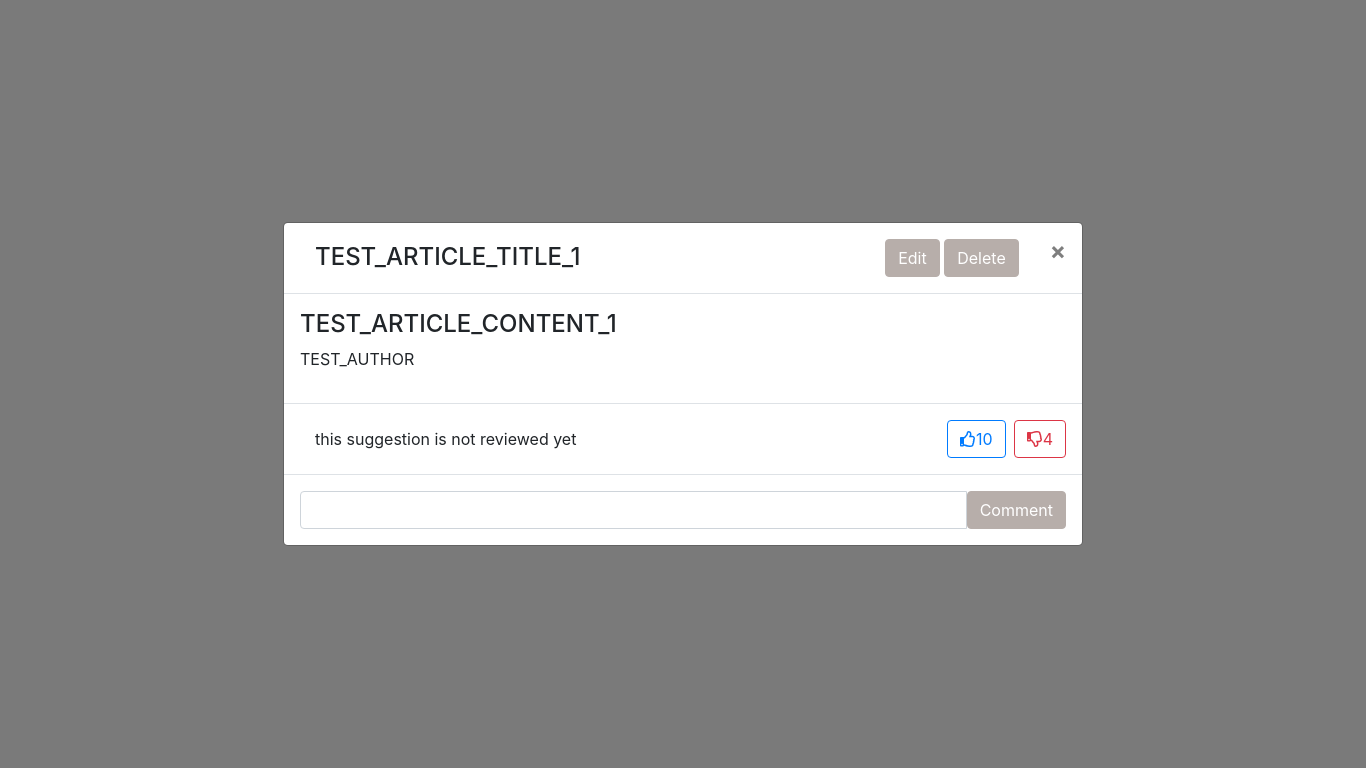
Test: <ArticleDetail /> › edit
Click the button with id "article-edit-button" at (912,258), box x1=885 y1=239 x2=940 y2=277
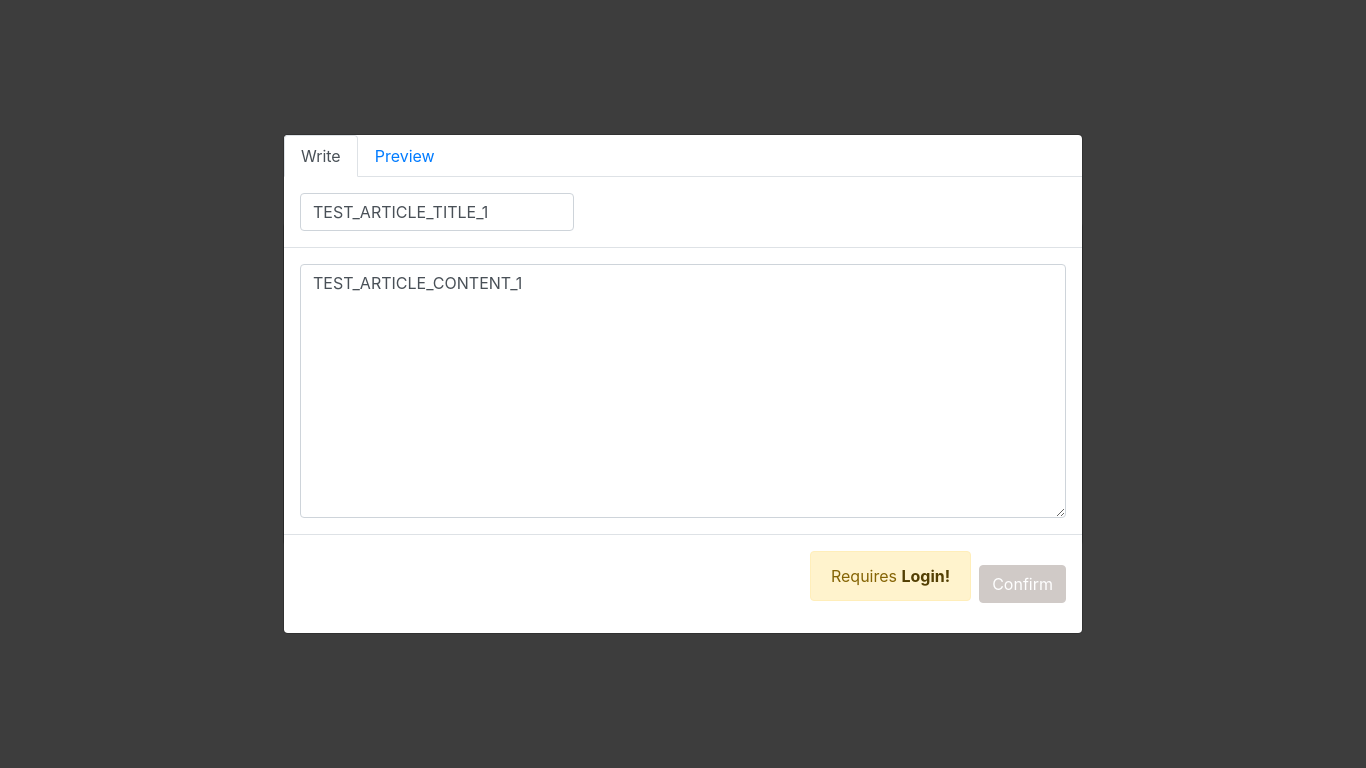
Now the element with class "article-edit-card" is shown
